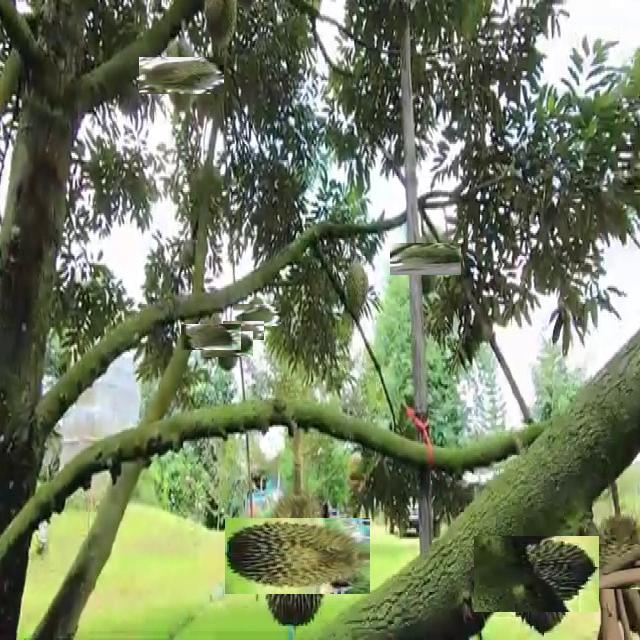durian: (242, 500, 353, 611), (487, 523, 588, 625), (574, 524, 640, 608), (150, 45, 212, 106), (400, 233, 452, 285), (199, 1, 241, 50), (342, 252, 371, 318), (190, 316, 233, 359), (207, 325, 247, 364), (239, 297, 274, 332), (228, 315, 258, 346)
